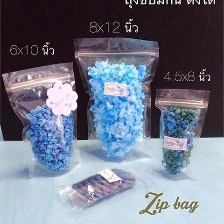snack: (67, 31, 163, 166), (0, 57, 86, 181), (149, 83, 214, 181), (51, 156, 142, 219)
